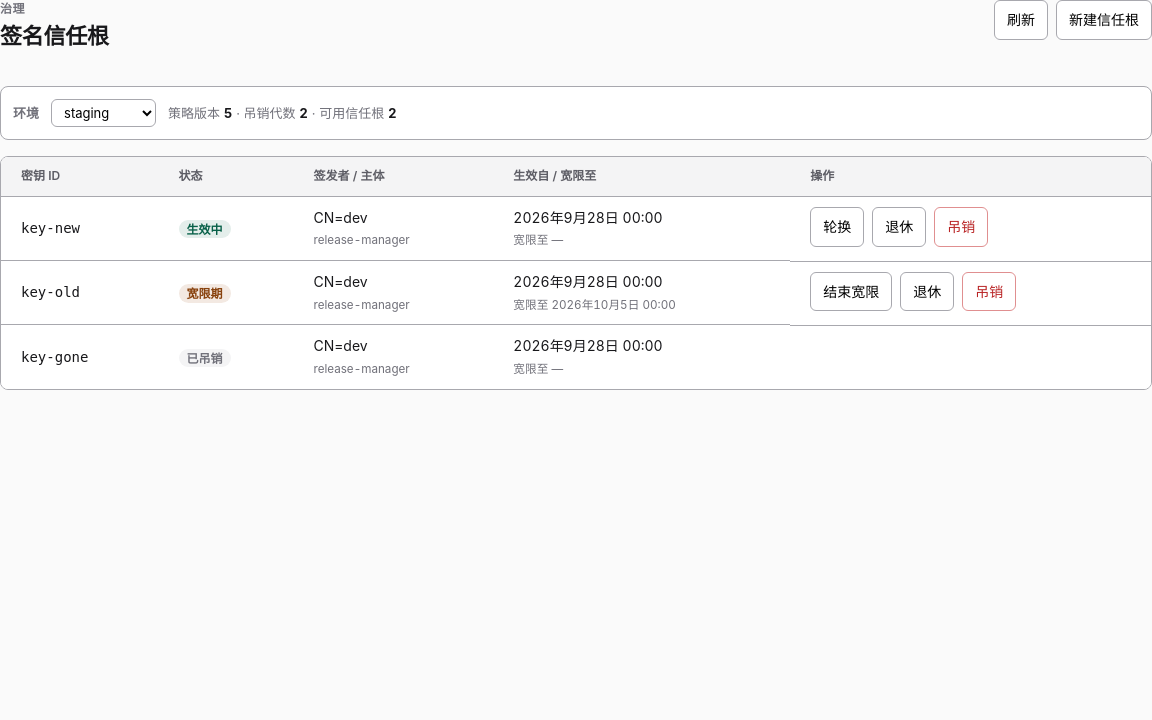
it: trust panel dialog semantics › opens the create editor as a labelled modal dialog
The image size is (1152, 720).
Click the button with test id "trust-create-entry".
click(1104, 20)  # box [1056,0,1151,40]
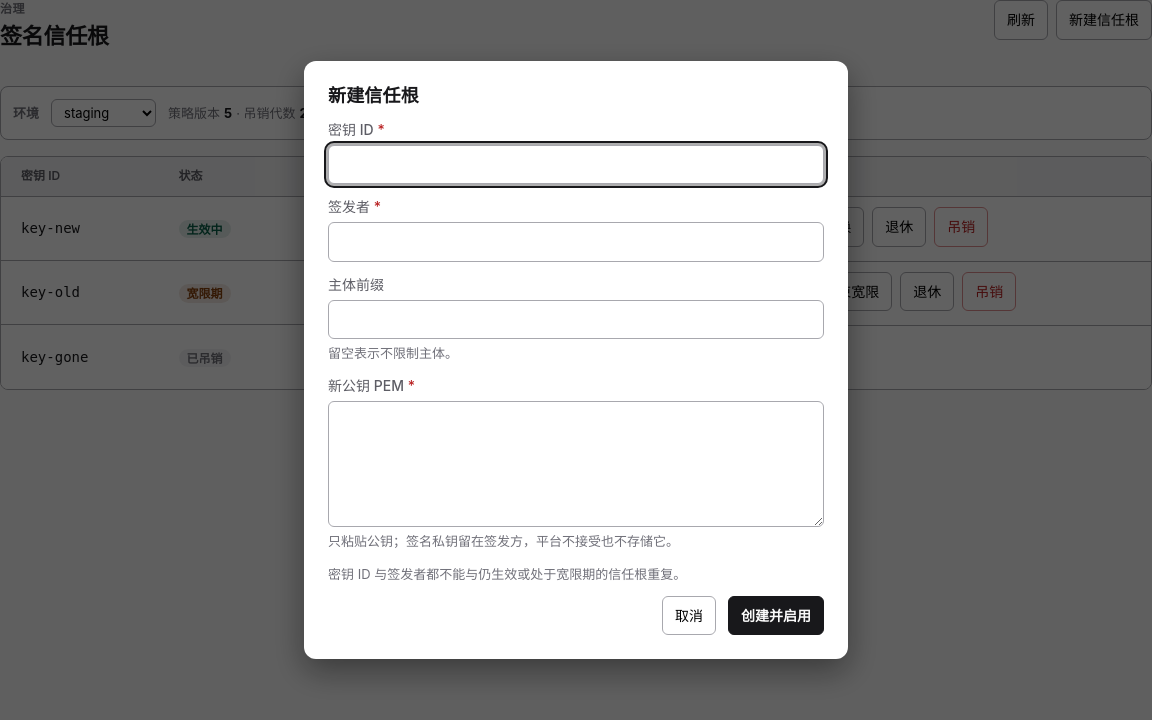
Check: the form with class "trust-editor" is shown, box [328,119,824,636]
